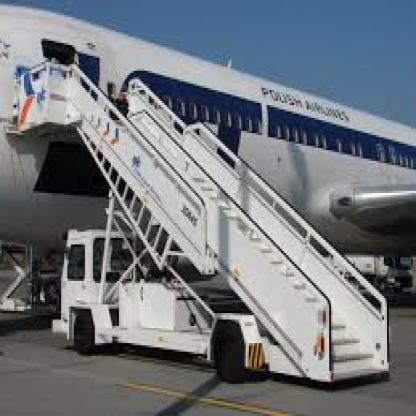boarding stairs: (16, 62, 394, 384)
